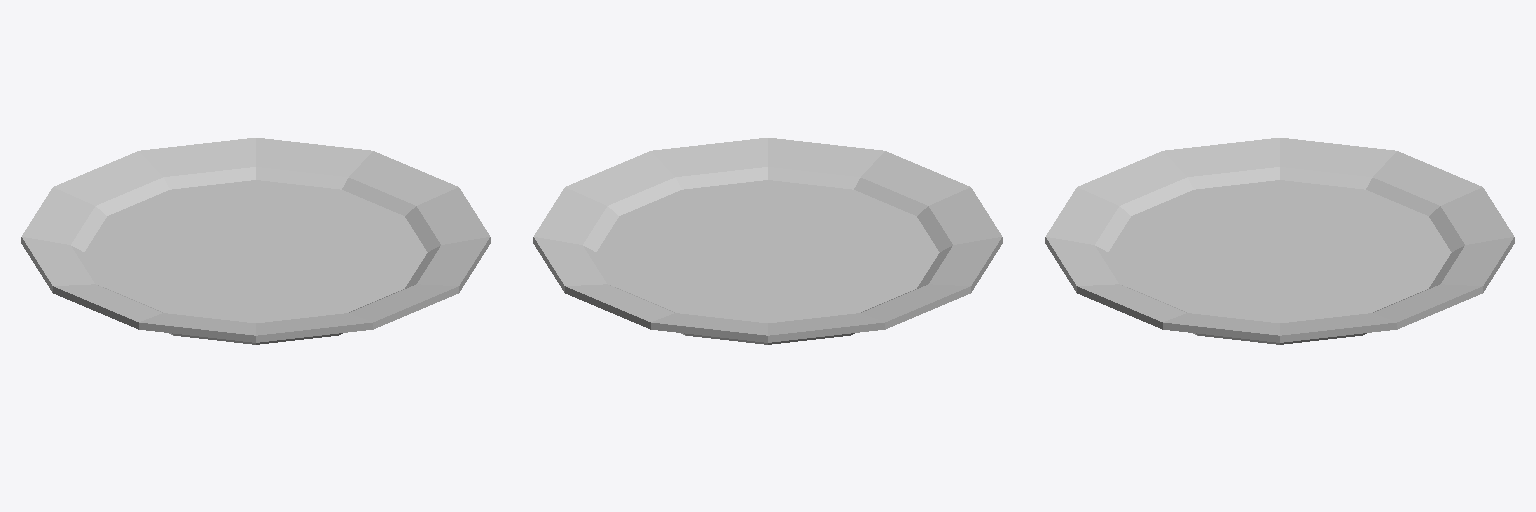
Rendered from Plato.obj.
3 views of the same model, side by side, from view 1: azimuth 30°, elevation 25°; view 2: azimuth 150°, elevation 25°; view 3: azimuth 270°, elevation 25° (orthographic).
Parts seen in each view (by area): view 1: Plate_PIVOT Kitchen_Props Cocina; view 2: Plate_PIVOT Kitchen_Props Cocina; view 3: Plate_PIVOT Kitchen_Props Cocina.
Part boxes in pixels (x1,y1,x2,y2): Plate_PIVOT Kitchen_Props Cocina: (21,138,490,344); Plate_PIVOT Kitchen_Props Cocina: (533,138,1002,344); Plate_PIVOT Kitchen_Props Cocina: (1045,138,1514,344).
Size of the model in its own units: 51.36 by 4.68 by 51.36.